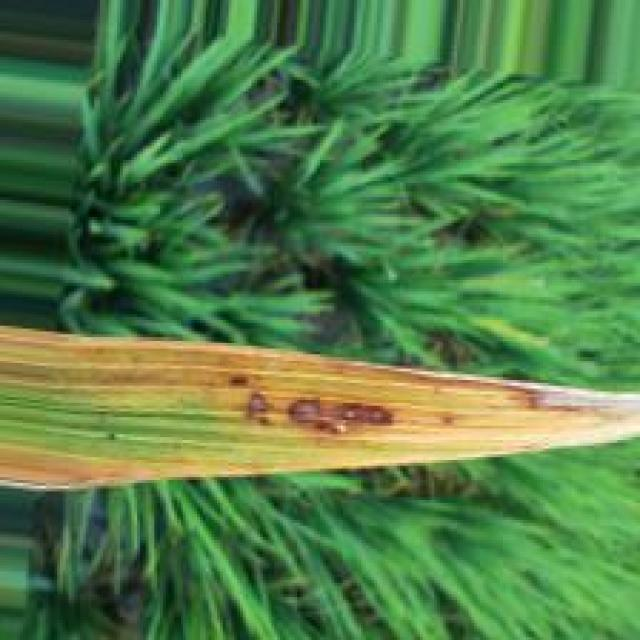Bacterial_Leaf_Blight: (0, 329, 636, 491)
